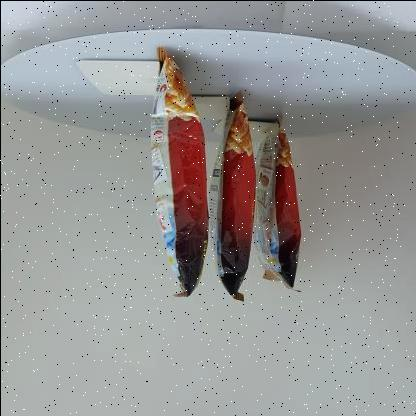Others: (134, 41, 318, 309)
